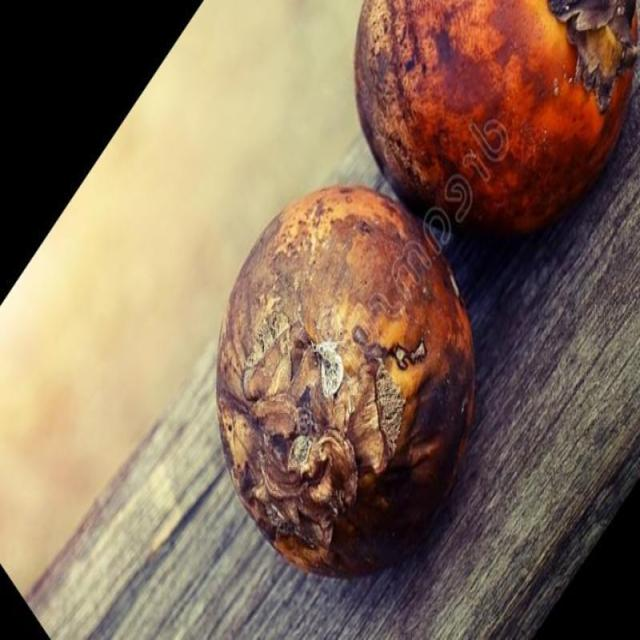damaged: (215, 189, 475, 579), (353, 0, 639, 240)
